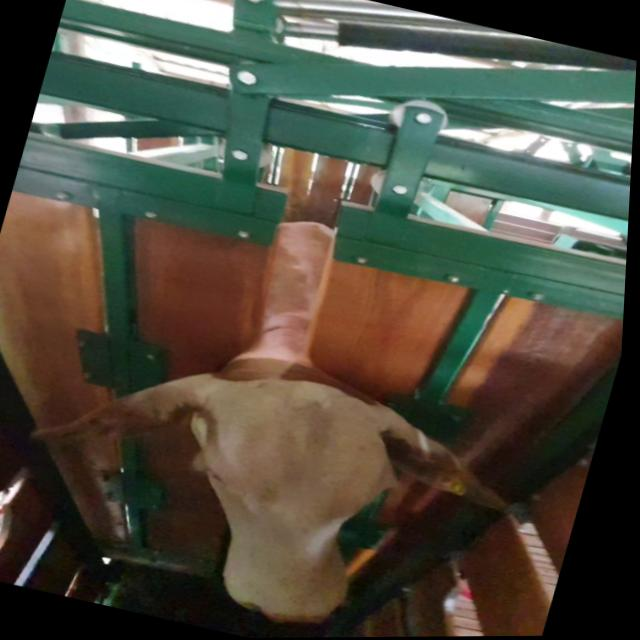cowFace: (149, 354, 417, 639)
